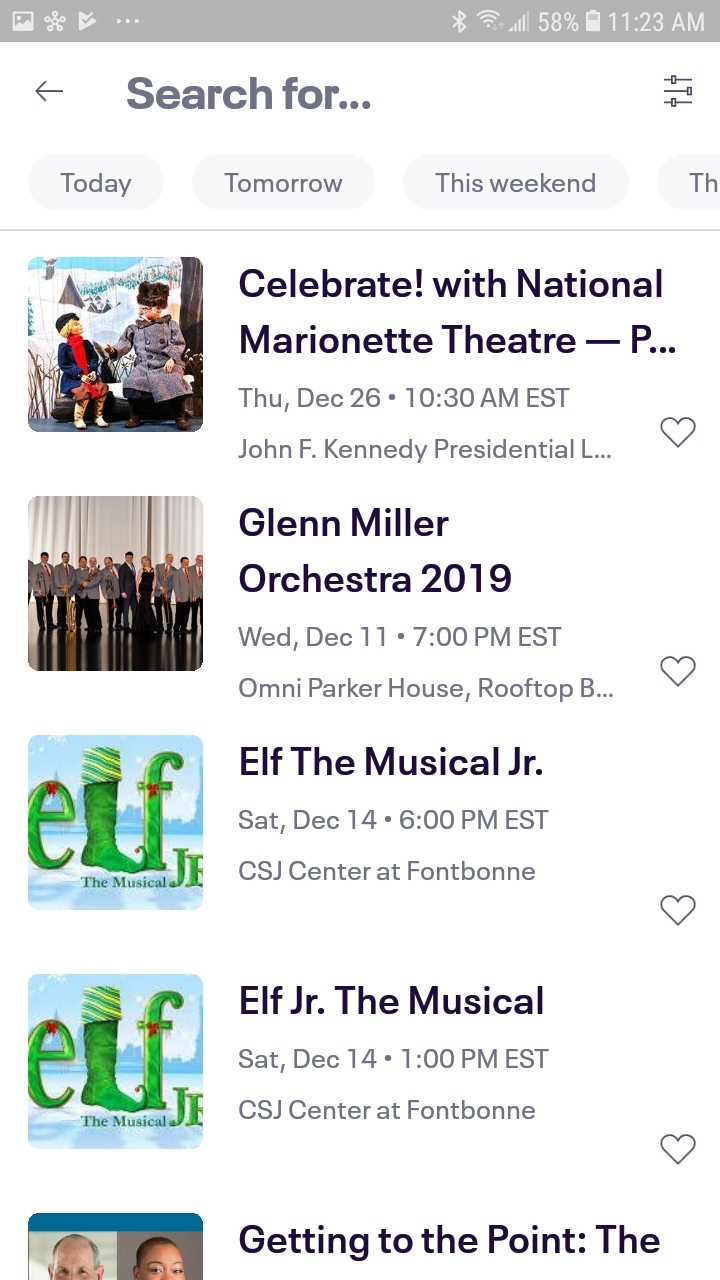Icon: (659, 417, 696, 449), (660, 656, 697, 688), (659, 895, 696, 927), (660, 1133, 697, 1165), (664, 76, 693, 109), (35, 80, 64, 103)
Image: (28, 257, 204, 433), (28, 496, 204, 672), (28, 973, 204, 1149), (29, 735, 204, 911), (28, 1212, 204, 1280)
Text: (240, 268, 676, 354), (238, 627, 614, 703), (238, 388, 611, 464), (240, 508, 512, 594), (239, 809, 550, 881), (239, 1048, 550, 1120), (239, 1224, 660, 1261), (240, 985, 543, 1015), (241, 747, 543, 776), (127, 78, 371, 111)
TextButton: (403, 154, 630, 211), (193, 154, 376, 211), (28, 154, 165, 211), (657, 154, 720, 211)
UpperTaskBar: (1, 1, 720, 43)
